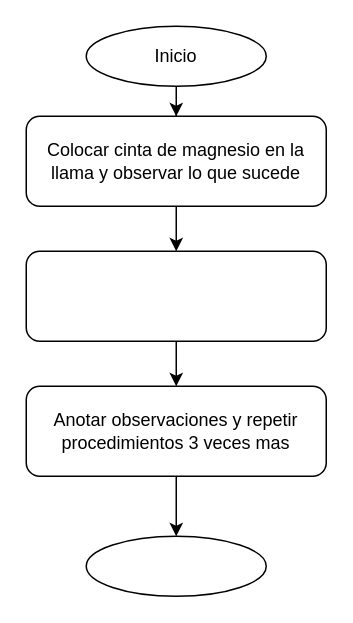
This 353x623 diagram has some shape labels left out. Here are the shapes that lost their labels. From the top down, the centre of each, then its label:
At [175,295]: "Introducir cinta en beacker con acido clorhidrico y luego en la llama de nuevo".
At [175,565]: "Fin".
